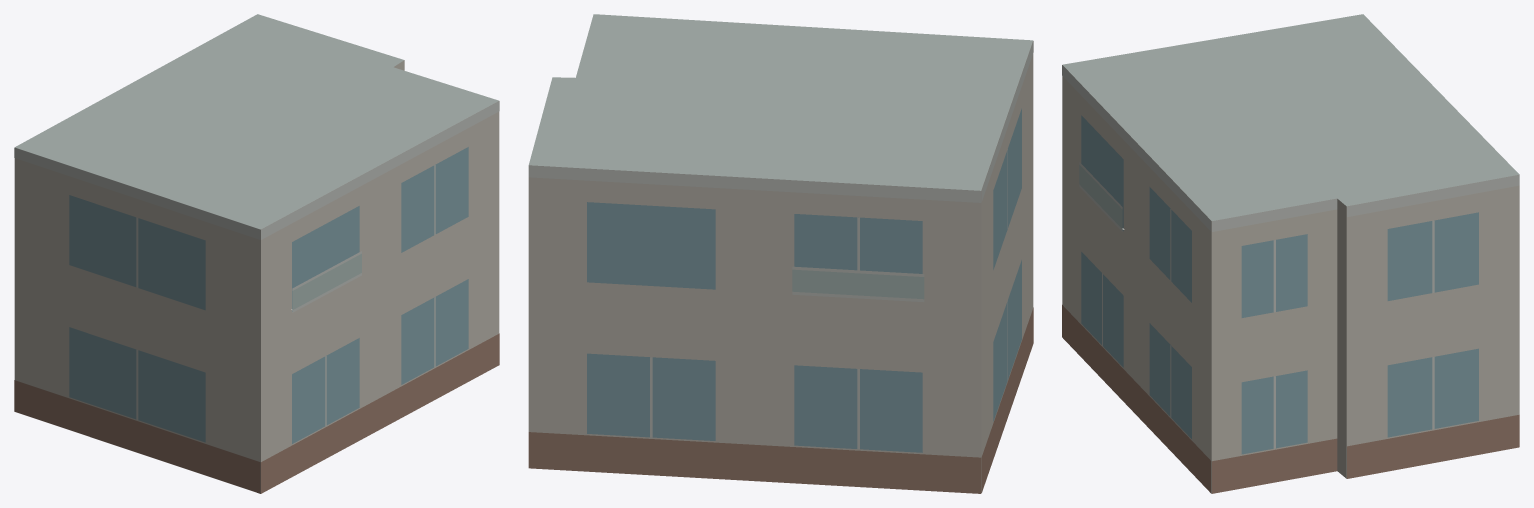
File: survey-upis-32758627.glb
3 renders of one model, left to right at view 1: azimuth 30°, elevation 25°; view 2: azimuth 150°, elevation 25°; view 3: azimuth 270°, elevation 25°, orthographic. The views are drawn at different scales.
Parts seen in each view (by area): view 1: survey-upis-32758627.tmp; view 2: survey-upis-32758627.tmp; view 3: survey-upis-32758627.tmp.
Part boxes in pixels (x1=…): survey-upis-32758627.tmp: x1=14, y1=14, x2=499, y2=493; survey-upis-32758627.tmp: x1=528, y1=14, x2=1033, y2=493; survey-upis-32758627.tmp: x1=1062, y1=14, x2=1519, y2=493.
Size of the model in its own units: 9.95 by 6.1 by 9.29.
